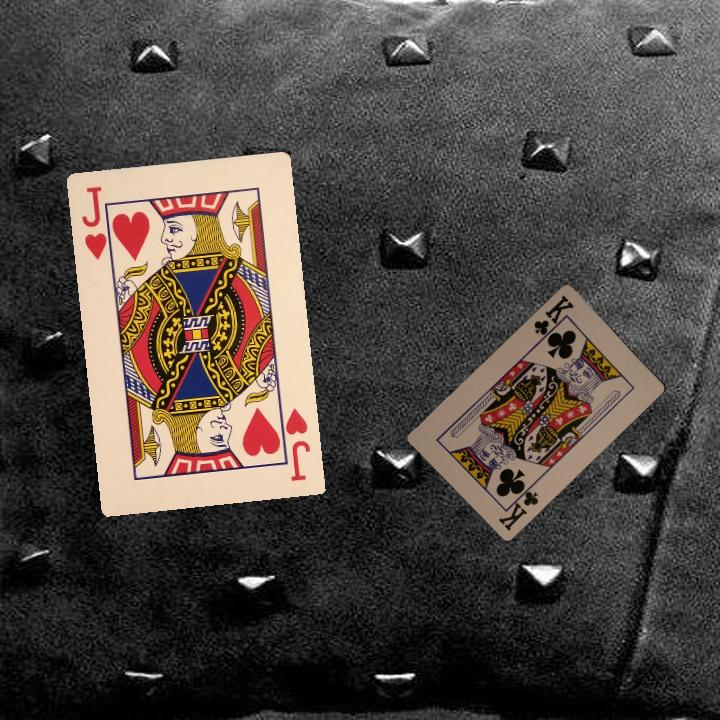Jh: (77, 182, 116, 263), (275, 404, 313, 484)
Kc: (494, 480, 541, 533), (530, 291, 576, 343)
